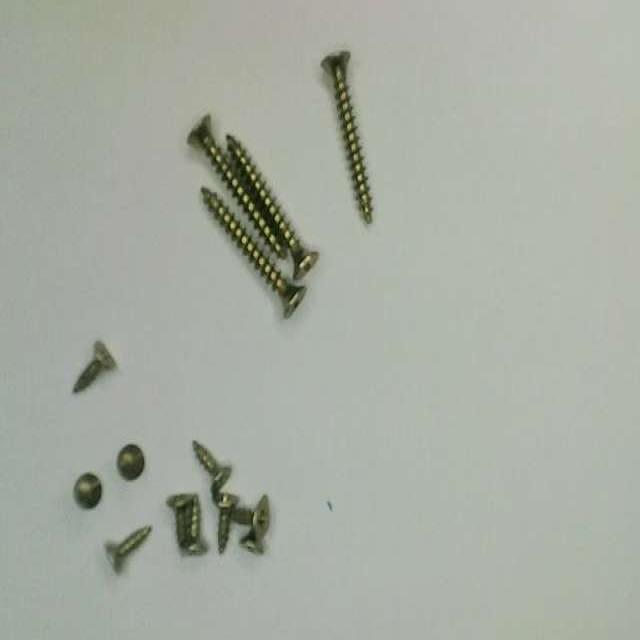Parafuso: (187, 115, 285, 258), (201, 187, 305, 318), (226, 135, 318, 279), (321, 51, 371, 222), (192, 442, 230, 502), (73, 340, 116, 393), (105, 526, 151, 573), (231, 495, 268, 534), (166, 494, 191, 551), (184, 495, 207, 554), (217, 492, 237, 553), (74, 472, 101, 509), (117, 444, 144, 479), (241, 528, 263, 554)
